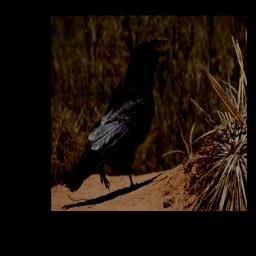Crow: (61, 37, 168, 192)
